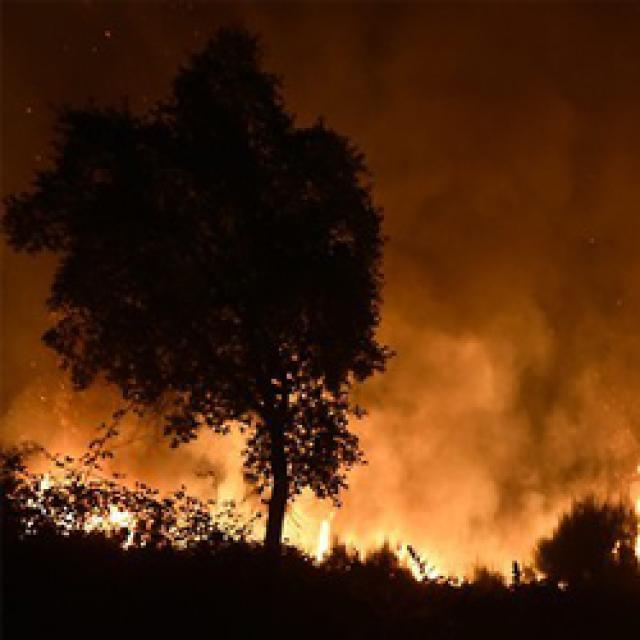Fire: (120, 466, 392, 566), (4, 456, 157, 568), (335, 541, 538, 615)
Smoke: (315, 178, 618, 520), (0, 273, 266, 484)
